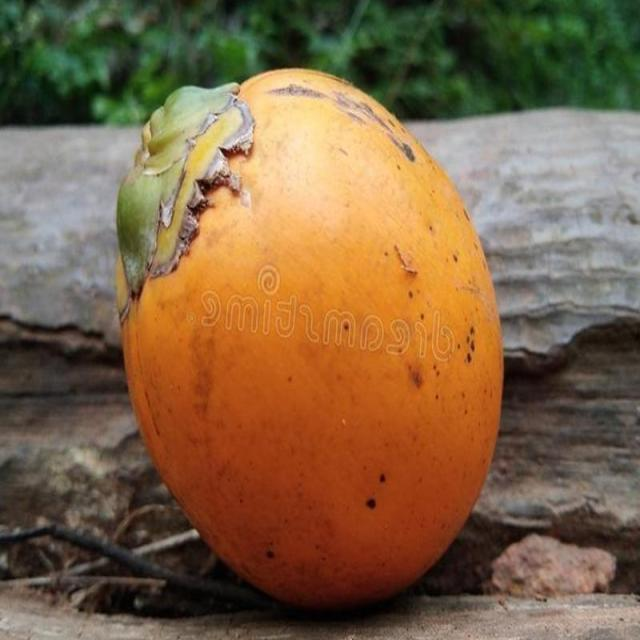good: (115, 68, 502, 606)
